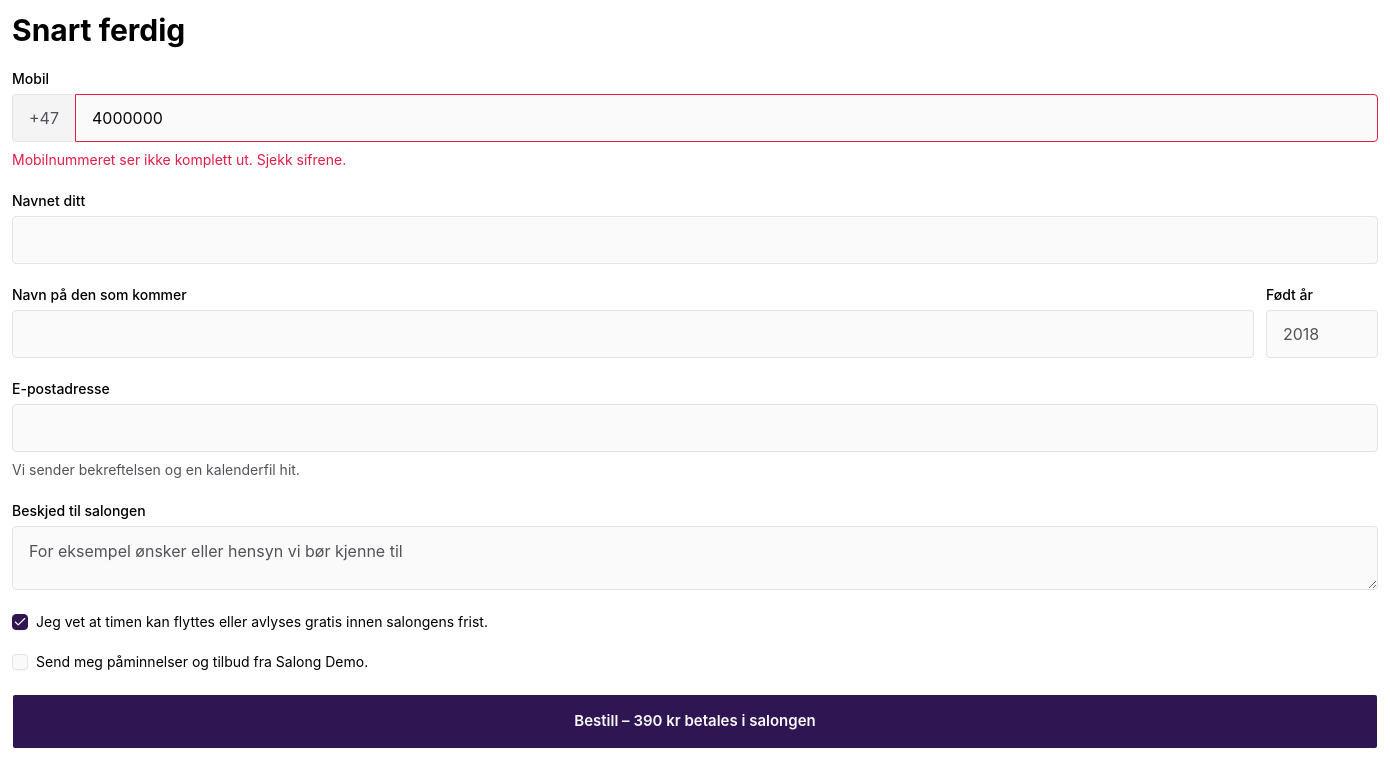
Test case: DetailsScreen › holds its tongue while the visitor is still typing the number
Focus the field labelled "Mobil" at (726,118), box [75,94,1378,142]
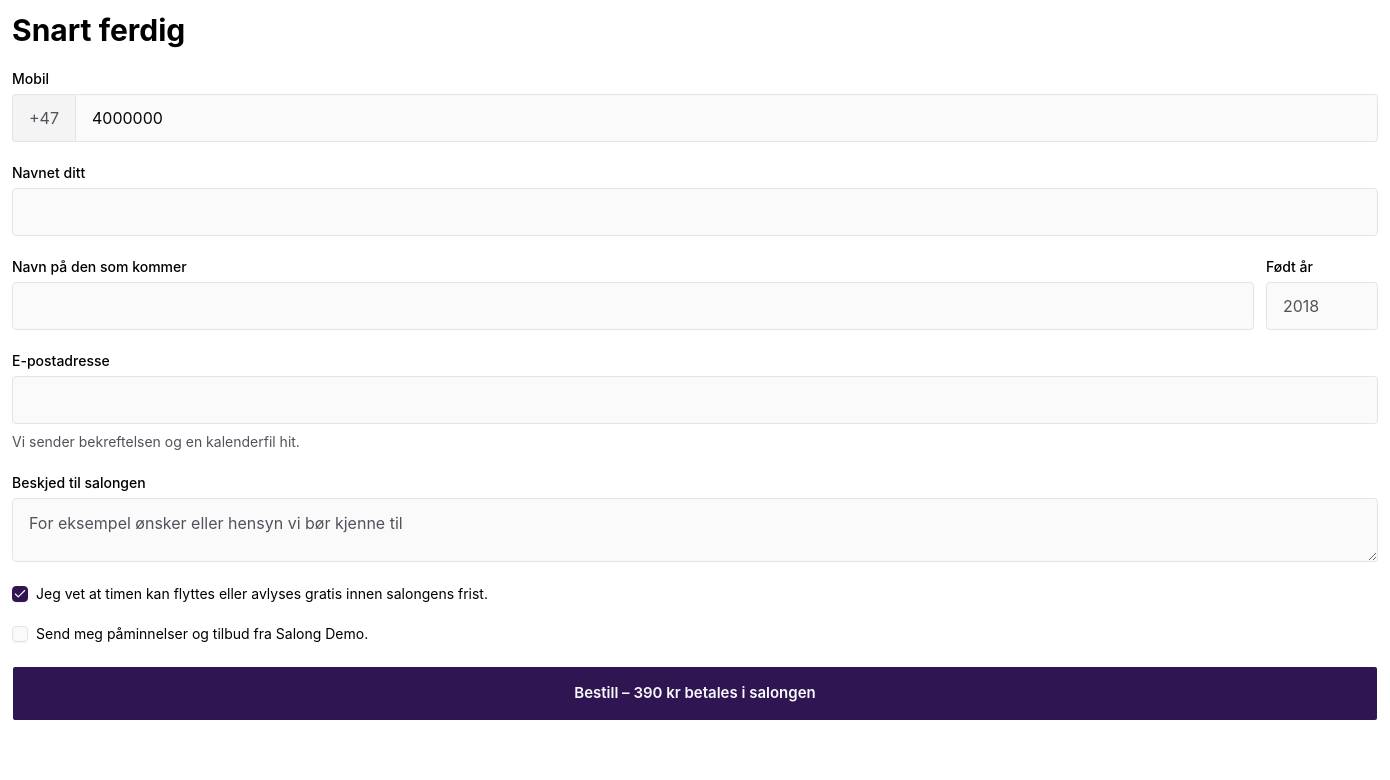
Result: the text "Mobilnummeret ser ikke komplett ut. Sjekk sifrene." is gone
Leave the field labelled "Mobil", box [75,94,1378,142]
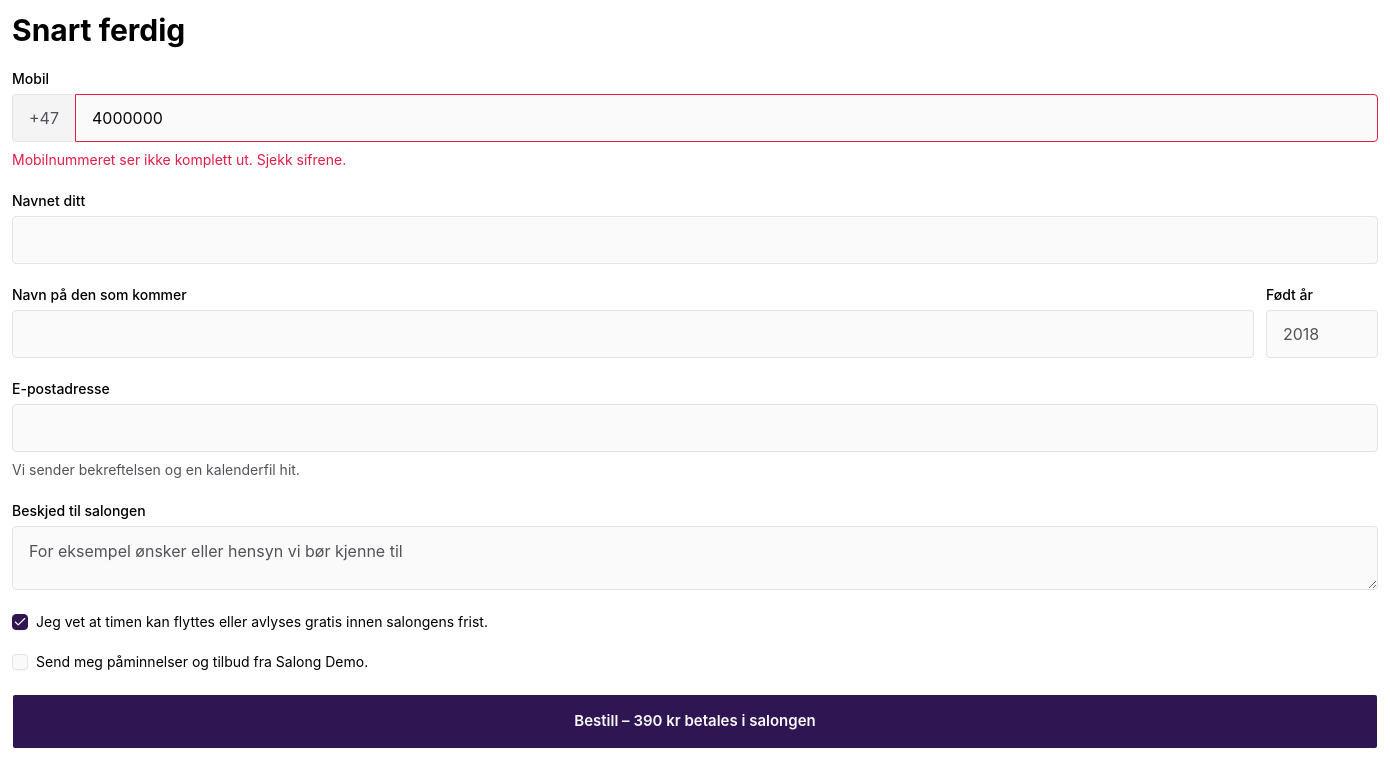
Result: the text "Mobilnummeret ser ikke komplett ut. Sjekk sifrene." is shown at [12,151,346,168]
